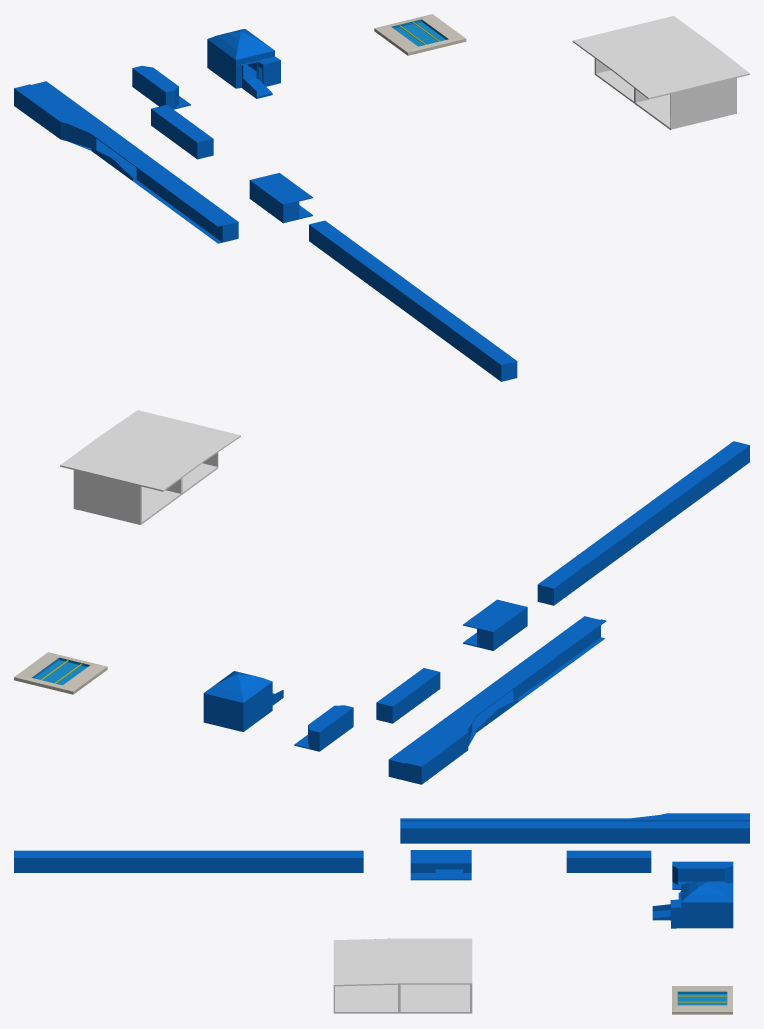
File: blocos.fbx
The picture shows the model from 3 angles, top to bottom: view 1: azimuth 30°, elevation 25°; view 2: azimuth 150°, elevation 25°; view 3: azimuth 270°, elevation 25°; orthographic projection. The views are drawn at different scales.
Visible parts, largest first — view 1: Plane.001, Cube.001, Cube.006, Cube.004, Plane, Cube.005, Cube, Cube.003; view 2: Plane.001, Cube.001, Cube.006, Cube.004, Plane, Cube.005, Cube, Cube.003; view 3: Plane.001, Cube.001, Cube.006, Cube.004, Cube, Cube.005, Plane, Cube.003.
Boxes of the visible parts, x1,y1,x2,y2 form: Plane.001: [572, 16, 749, 129]; Cube.001: [14, 81, 238, 243]; Cube.006: [309, 220, 517, 381]; Cube.004: [207, 28, 280, 98]; Plane: [374, 14, 466, 55]; Cube.005: [249, 173, 312, 223]; Cube: [151, 105, 213, 159]; Cube.003: [132, 65, 190, 109]; Plane.001: [60, 410, 240, 524]; Cube.001: [388, 616, 606, 784]; Cube.006: [537, 441, 749, 605]; Cube.004: [203, 671, 283, 731]; Plane: [14, 652, 107, 694]; Cube.005: [463, 599, 527, 650]; Cube: [376, 668, 440, 723]; Cube.003: [294, 705, 353, 751]; Plane.001: [333, 938, 472, 1013]; Cube.001: [400, 813, 749, 843]; Cube.006: [14, 850, 363, 872]; Cube.004: [652, 881, 733, 928]; Cube: [566, 850, 651, 872]; Cube.005: [410, 850, 471, 880]; Plane: [672, 986, 732, 1014]; Cube.003: [672, 861, 733, 889].
Size of the model in its own units: 6302 by 976 by 8707.
